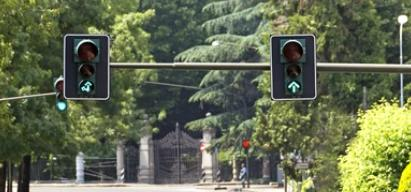green_light: (270, 34, 317, 100), (64, 34, 110, 100), (54, 77, 68, 112)
